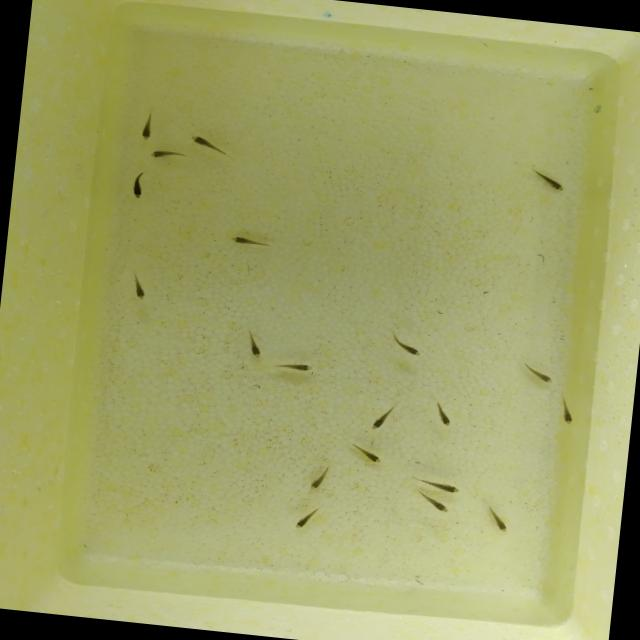fingerling: (183, 131, 240, 161), (383, 328, 428, 362), (224, 231, 284, 253), (524, 166, 570, 194), (363, 398, 400, 432), (415, 475, 469, 496), (346, 439, 386, 466), (292, 502, 324, 532), (132, 109, 161, 142), (554, 390, 579, 428), (521, 362, 560, 386), (416, 493, 452, 518), (128, 166, 150, 206), (490, 500, 514, 536), (432, 396, 457, 430), (247, 323, 266, 367), (142, 144, 182, 164), (274, 357, 315, 376), (308, 461, 328, 495), (128, 268, 146, 302)
